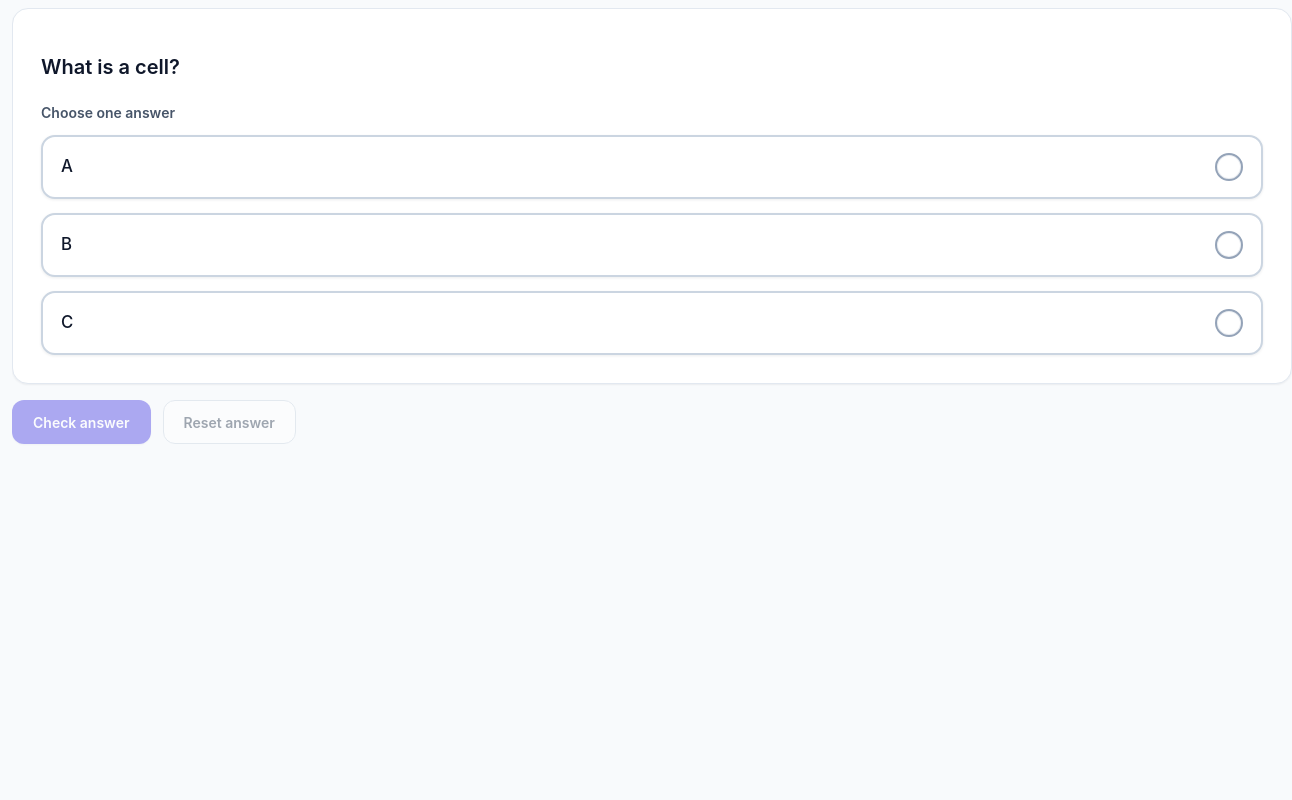
Test: PracticeRunner attempt payload › correct server result displays Correct and explanation
Click the radio button "A".
click(67, 166)  # box [41,135,1263,199]
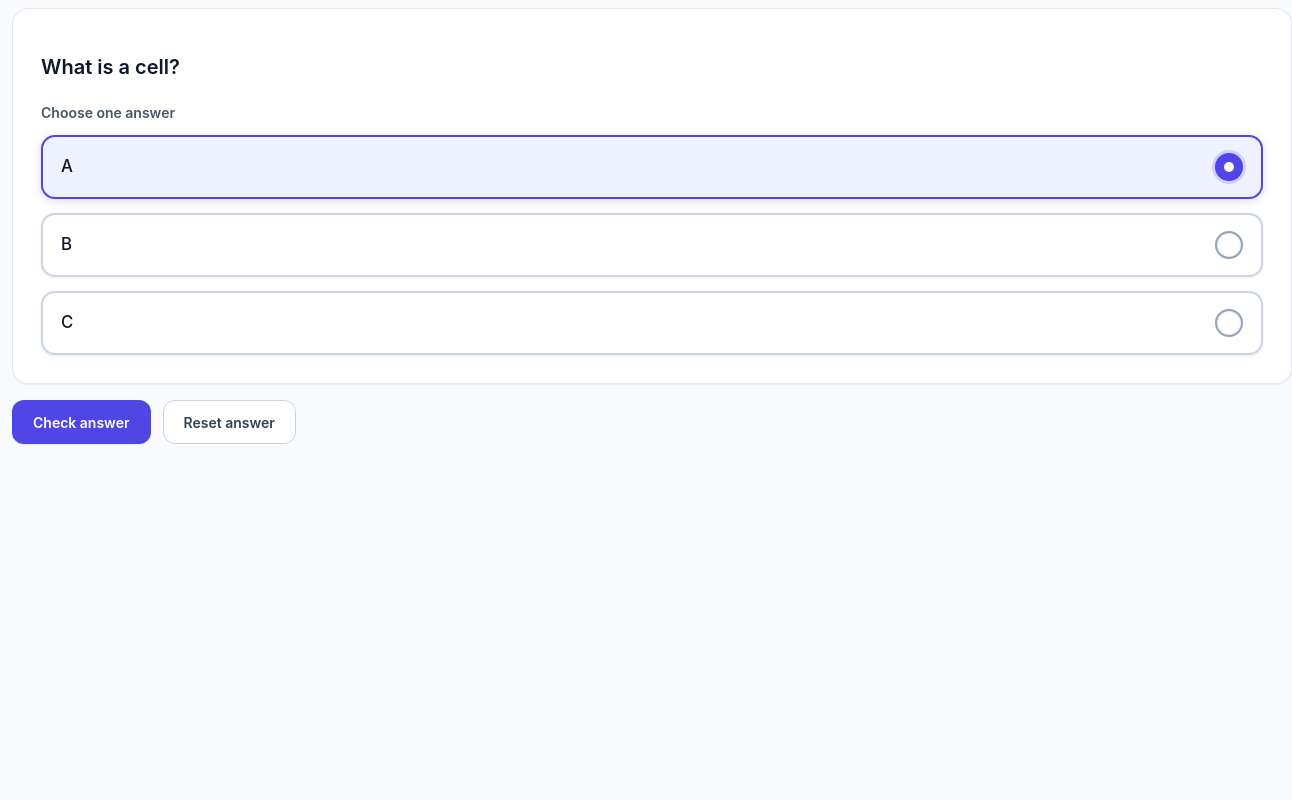
Click the button "Check answer".
click(81, 422)  # box [12,400,150,444]
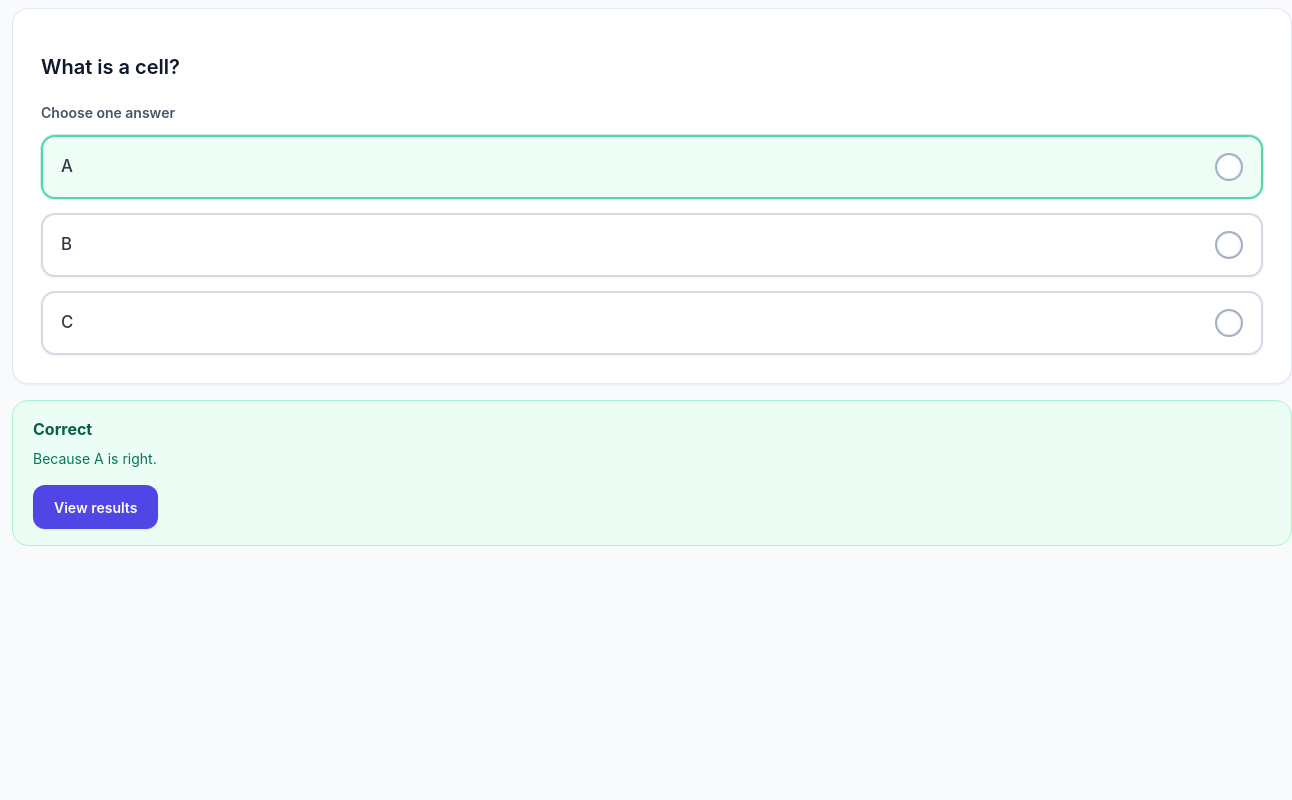
Now the element with test id "practice-feedback-panel" is shown, box [12,400,1291,546]
Now the text with test id "practice-feedback-title" reads "Correct", box [33,419,92,439]
Now the text with test id "practice-feedback-explanation" reads "Because A is right.", box [33,450,157,467]
